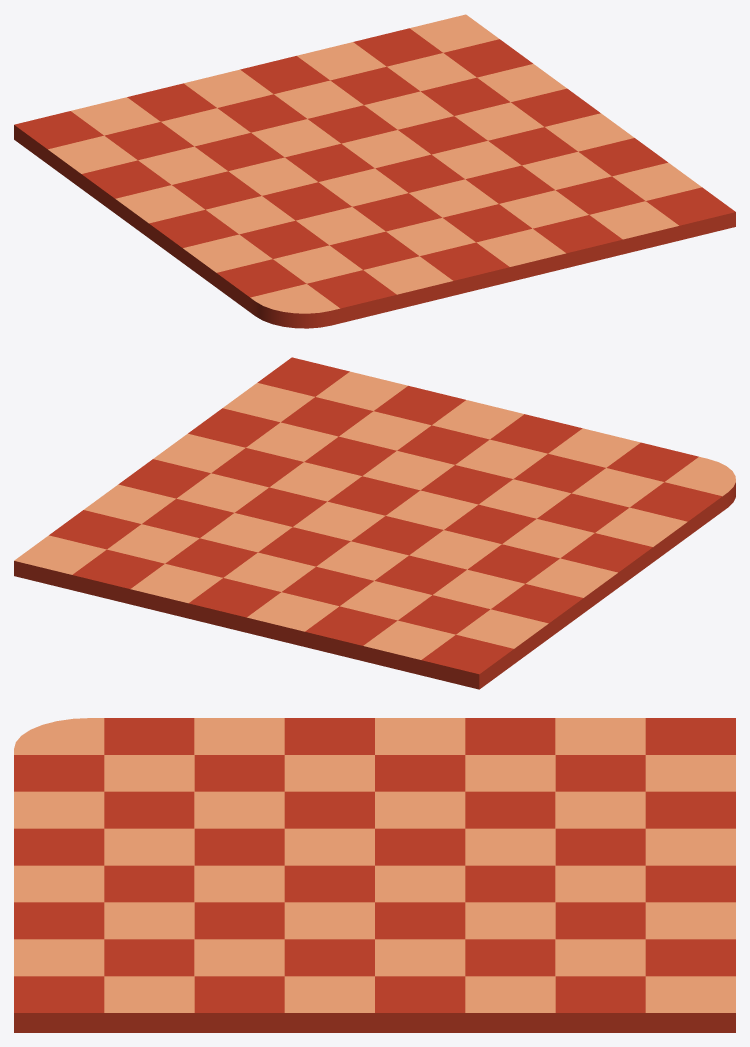
File: convenience store_f.fbx
3 views of the same model, one above another, from view 1: azimuth 30°, elevation 25°; view 2: azimuth 150°, elevation 25°; view 3: azimuth 270°, elevation 25° (orthographic). The views are drawn at different scales.
Visible parts, largest first — view 1: Plane.002; view 2: Plane.002; view 3: Plane.002.
Boxes of the visible parts, box(x1,y1,x2,y2) form: Plane.002: box(14, 14, 735, 328); Plane.002: box(14, 357, 735, 689); Plane.002: box(14, 718, 735, 1032).
Size of the model in its own units: 759 by 785 by 23.85.
